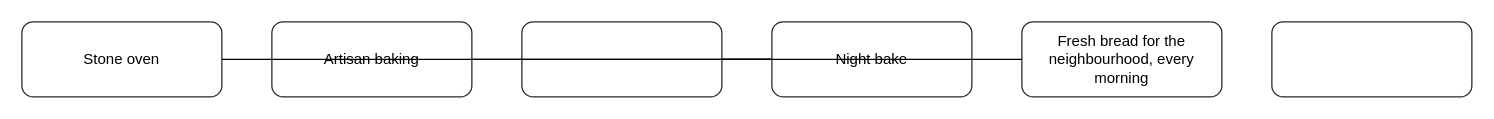
This 1494x119 diagram has some shape labels left out. The shapes that lost their labels are listed below. From the top down, each one's box as (x1, y1, x2, y2) in pixels, then its label:
(521, 21, 722, 97): Corner Bakery
(1271, 21, 1472, 97): Buy breakfast on the way to work
